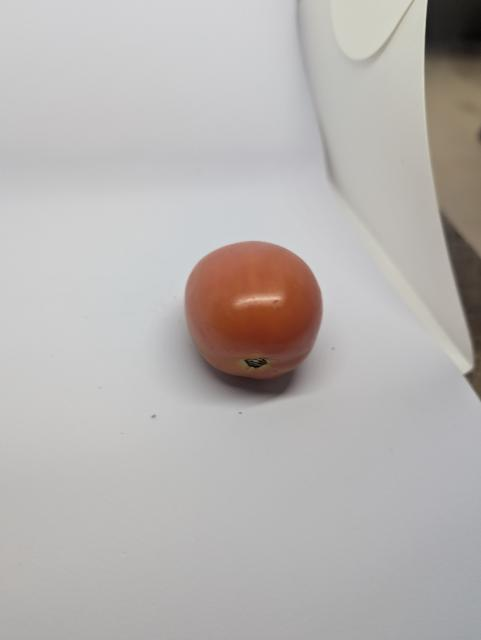red: (163, 213, 351, 413)
